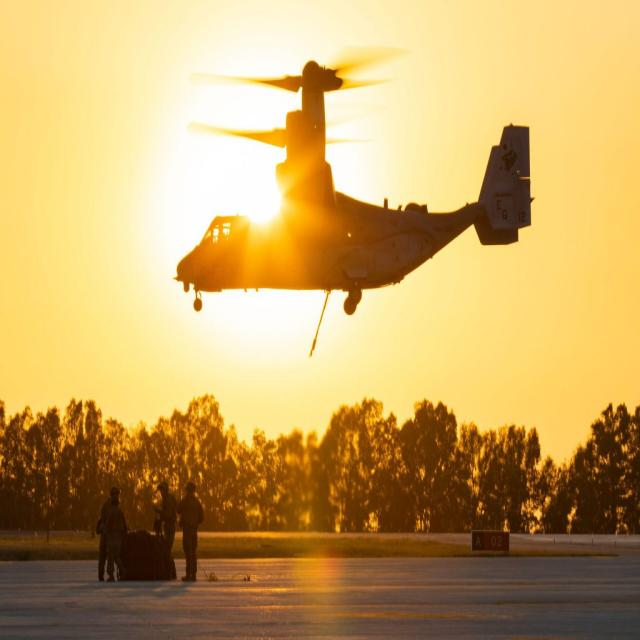MIL_Plane: (172, 45, 536, 316)
